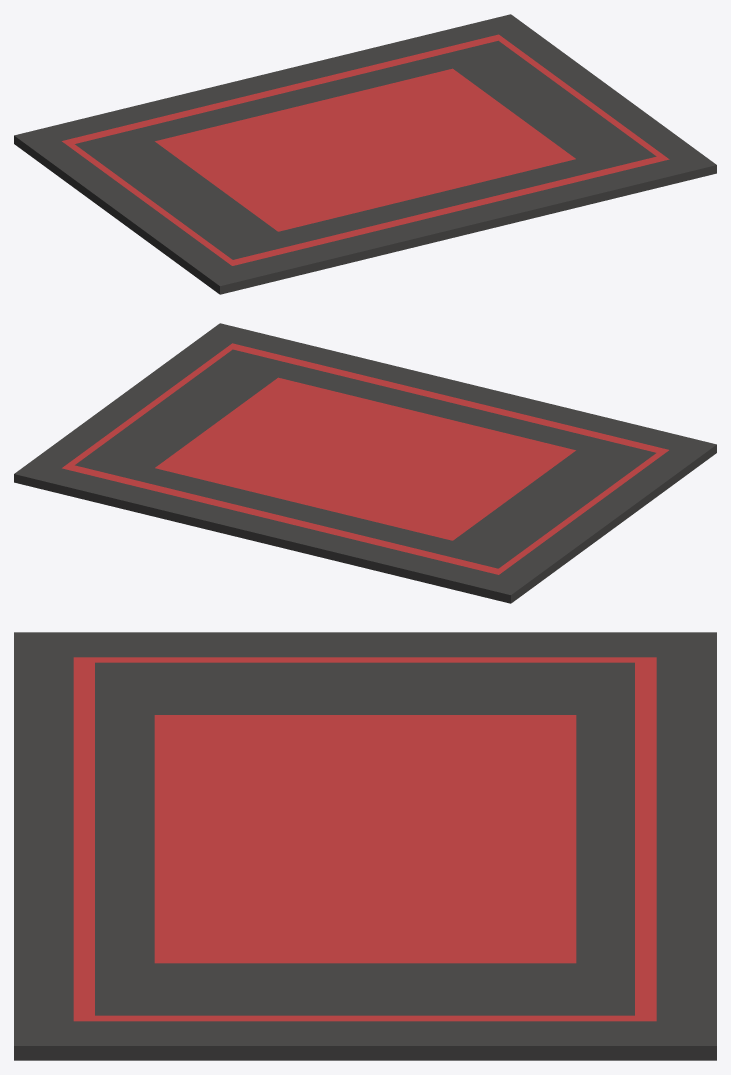
The model's file is Rug_1.gltf.
3 renders of one model, top to bottom at view 1: azimuth 30°, elevation 25°; view 2: azimuth 150°, elevation 25°; view 3: azimuth 270°, elevation 25°, orthographic. The views are drawn at different scales.
Visible parts, largest first — view 1: SM_Carpet_1B_357_StaticMeshComponent0; view 2: SM_Carpet_1B_357_StaticMeshComponent0; view 3: SM_Carpet_1B_357_StaticMeshComponent0.
Part boxes in pixels (<box>): SM_Carpet_1B_357_StaticMeshComponent0: <box>14,14,716,294</box>; SM_Carpet_1B_357_StaticMeshComponent0: <box>14,323,716,603</box>; SM_Carpet_1B_357_StaticMeshComponent0: <box>14,632,716,1060</box>.
Size of the model in its own units: 3.05 by 0.05 by 2.19.
Materials: 1 (1 with a texture image).
